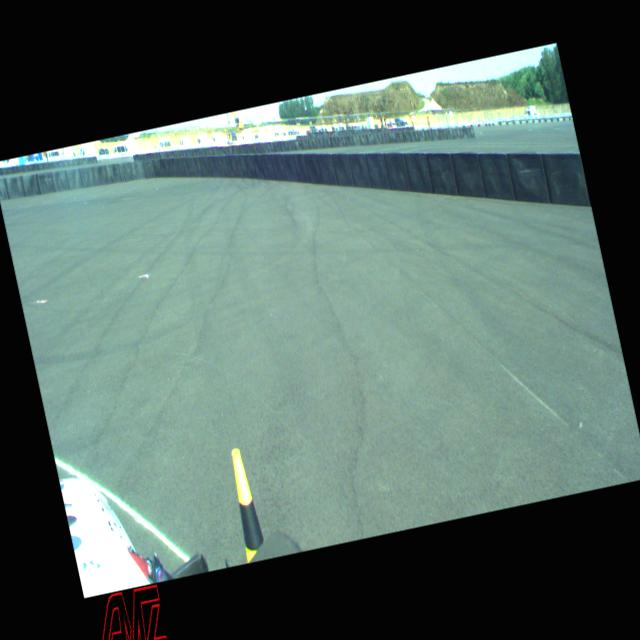yellow_cone: (224, 449, 266, 560)
